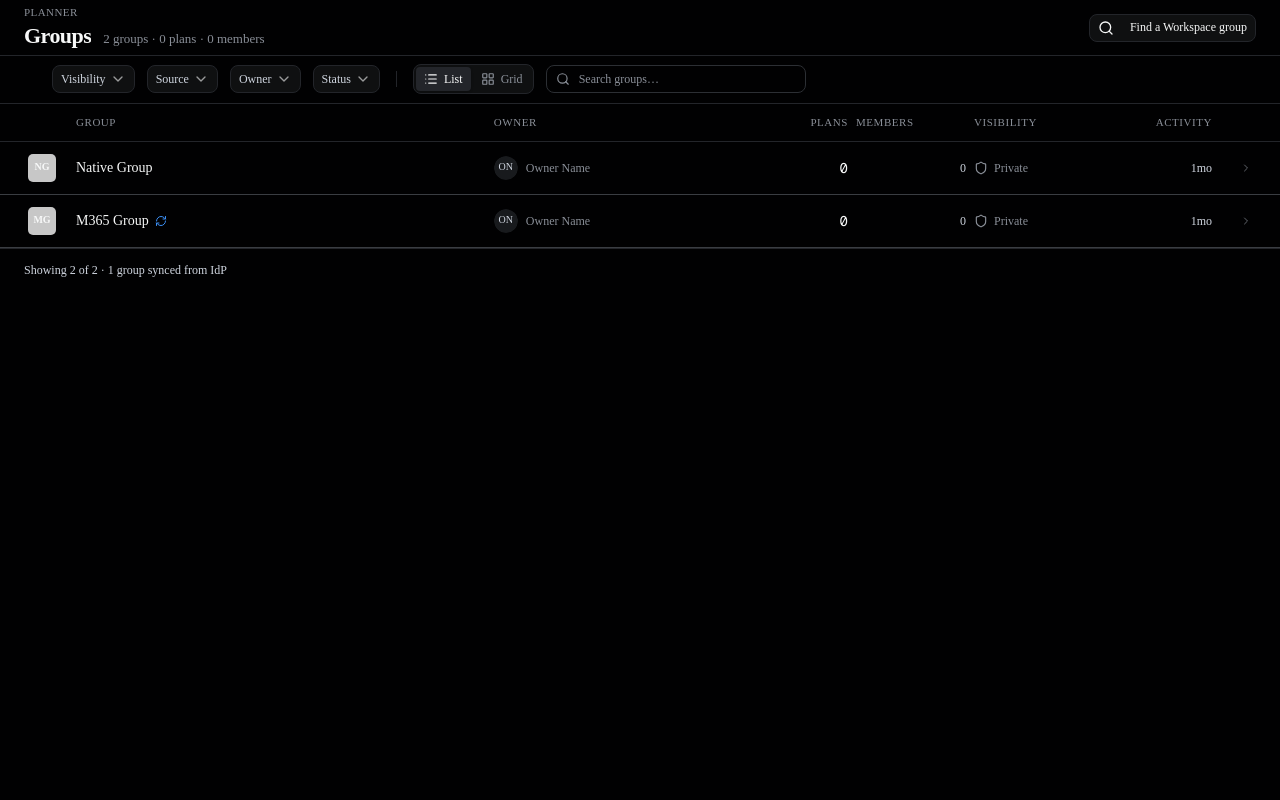
Scenario: GroupsPage › source filter "Native" shows only native groups
Check: the link "Native Group" is shown, box [0, 142, 1279, 194]
Click the button "Source" at point(182, 79), box [147, 65, 218, 93]
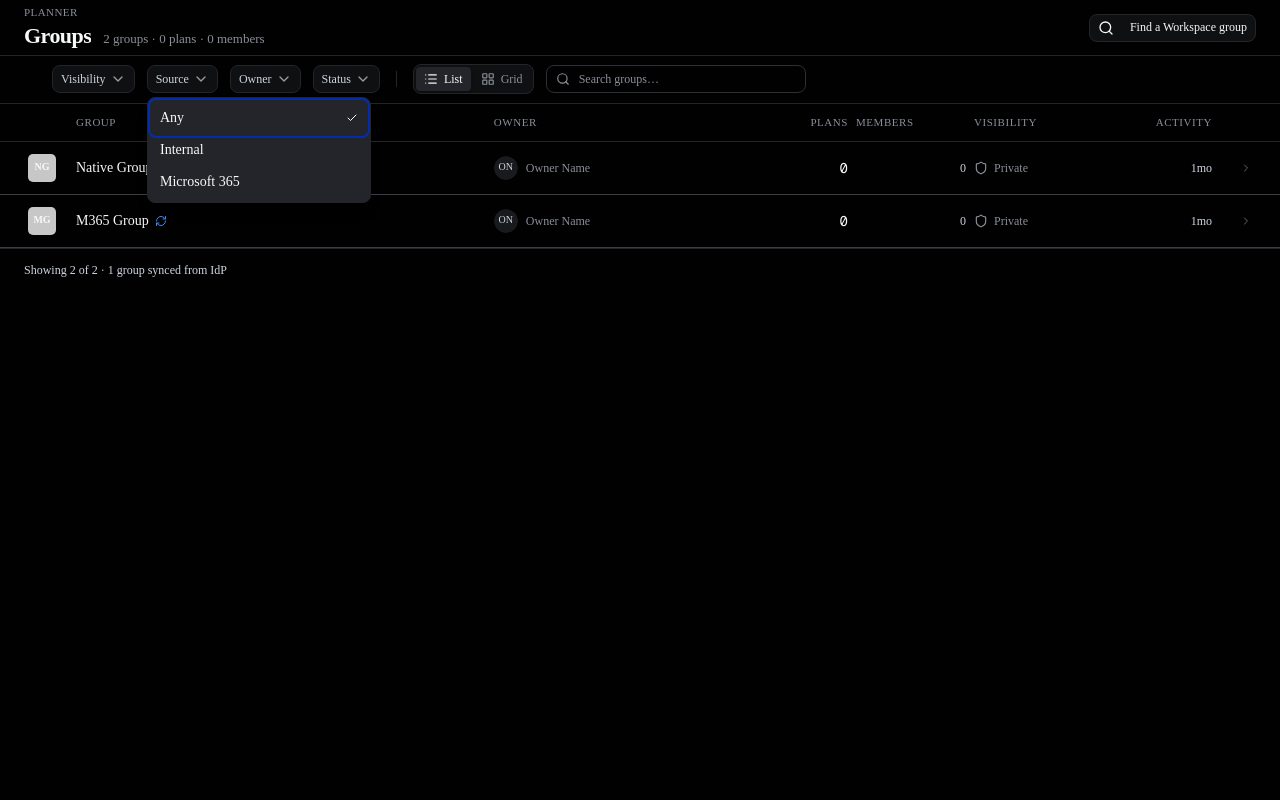
Click the button "Internal" at point(259, 150), box [152, 134, 366, 166]
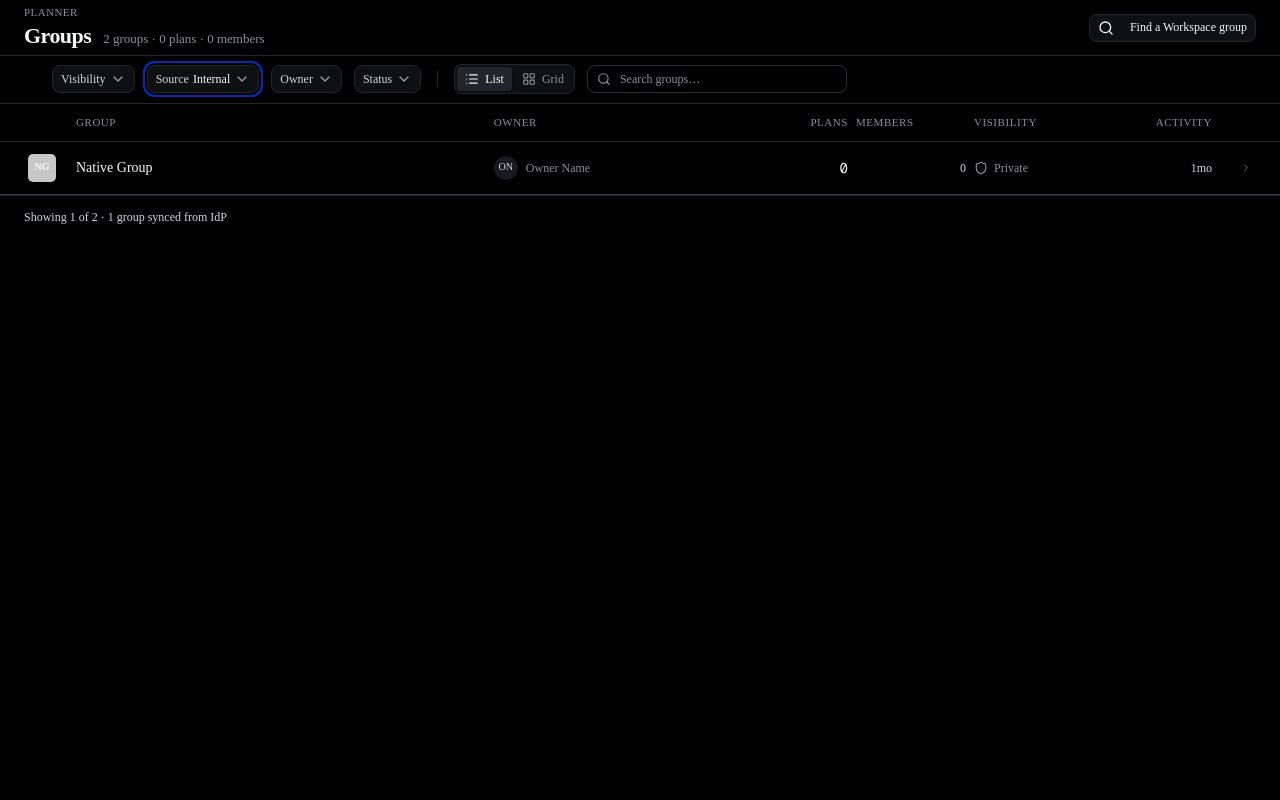
Check: the text "Native Group" is shown, box [76, 160, 153, 174]
Check: the link "M365 Group" is gone
